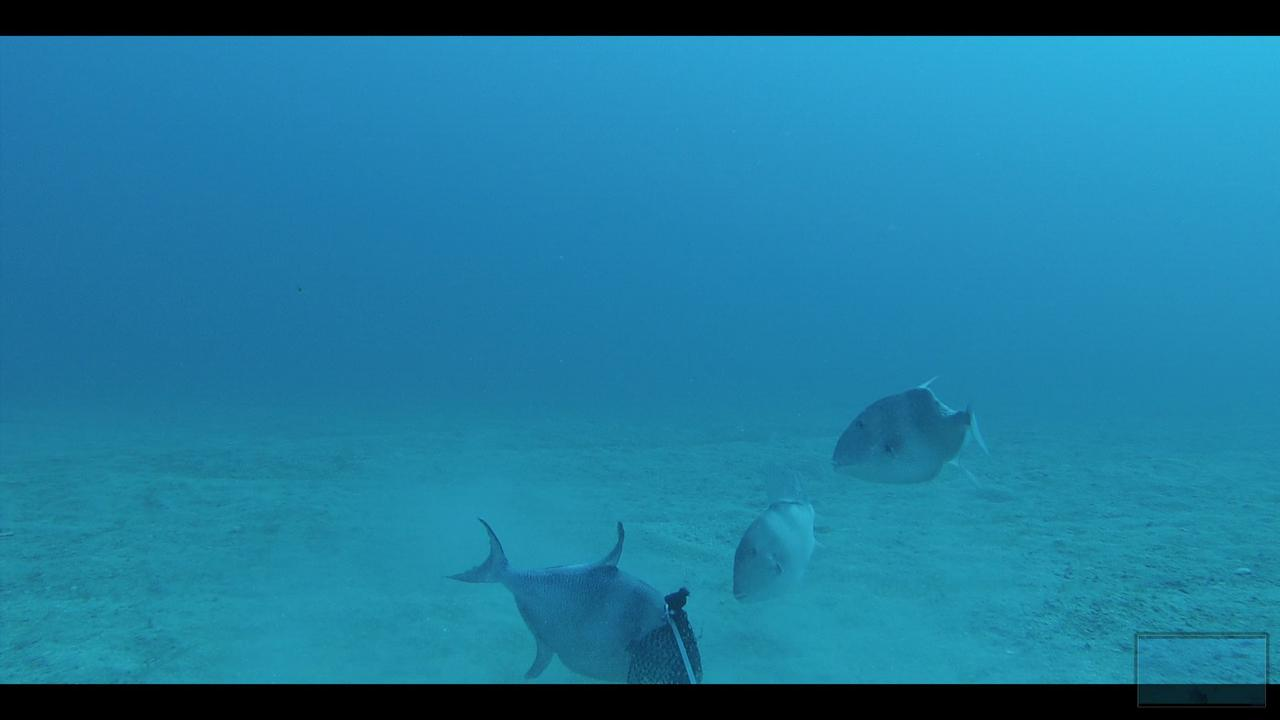balistes: (437, 494, 681, 680), (829, 370, 990, 490), (721, 466, 832, 602)
